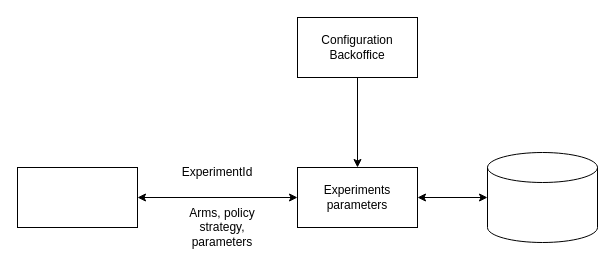
The diagram is 615 pixels wide and 266 high, and some of its shapes have lost their labels. The shapes that lost their labels are listed below. From the top down, each one's centre as x and y in pixels, then its label:
At point (77, 197): "Arm Selector".
At point (542, 197): "Experiments configuration".
